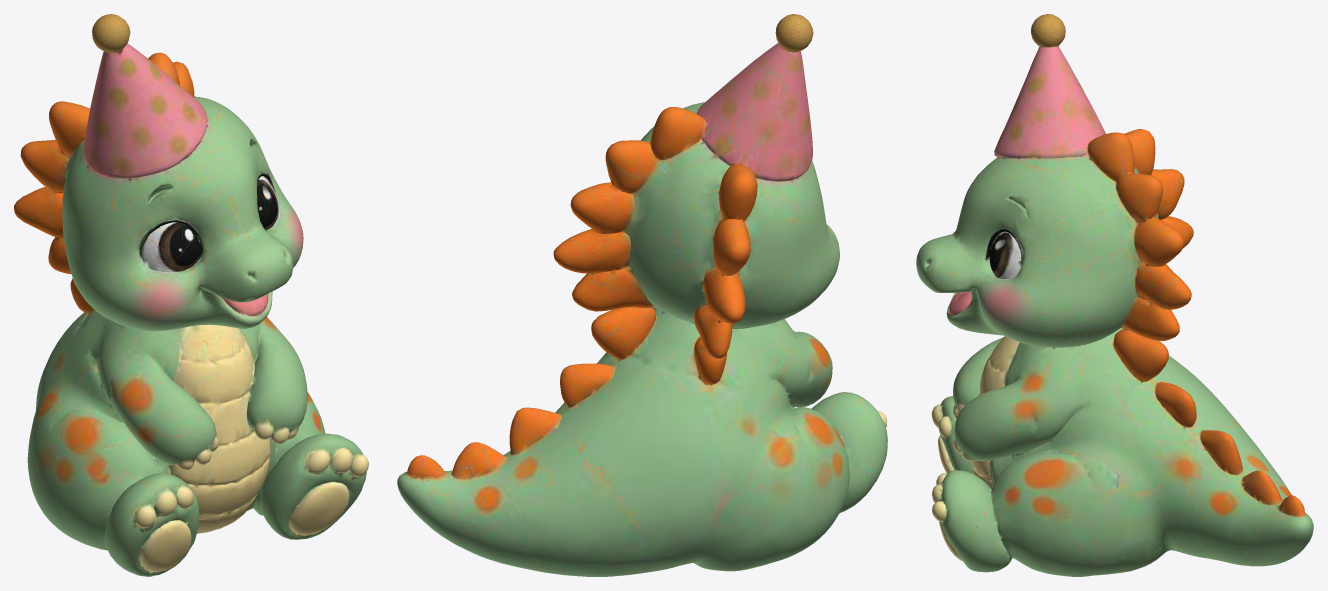
3 renders of one model, left to right at view 1: azimuth 30°, elevation 25°; view 2: azimuth 150°, elevation 25°; view 3: azimuth 270°, elevation 25°, orthographic. The views are drawn at different scales.
Bounding box in the file's own units: 1.19 × 1.9 × 1.42.
Materials: 1 (1 with a texture image).
